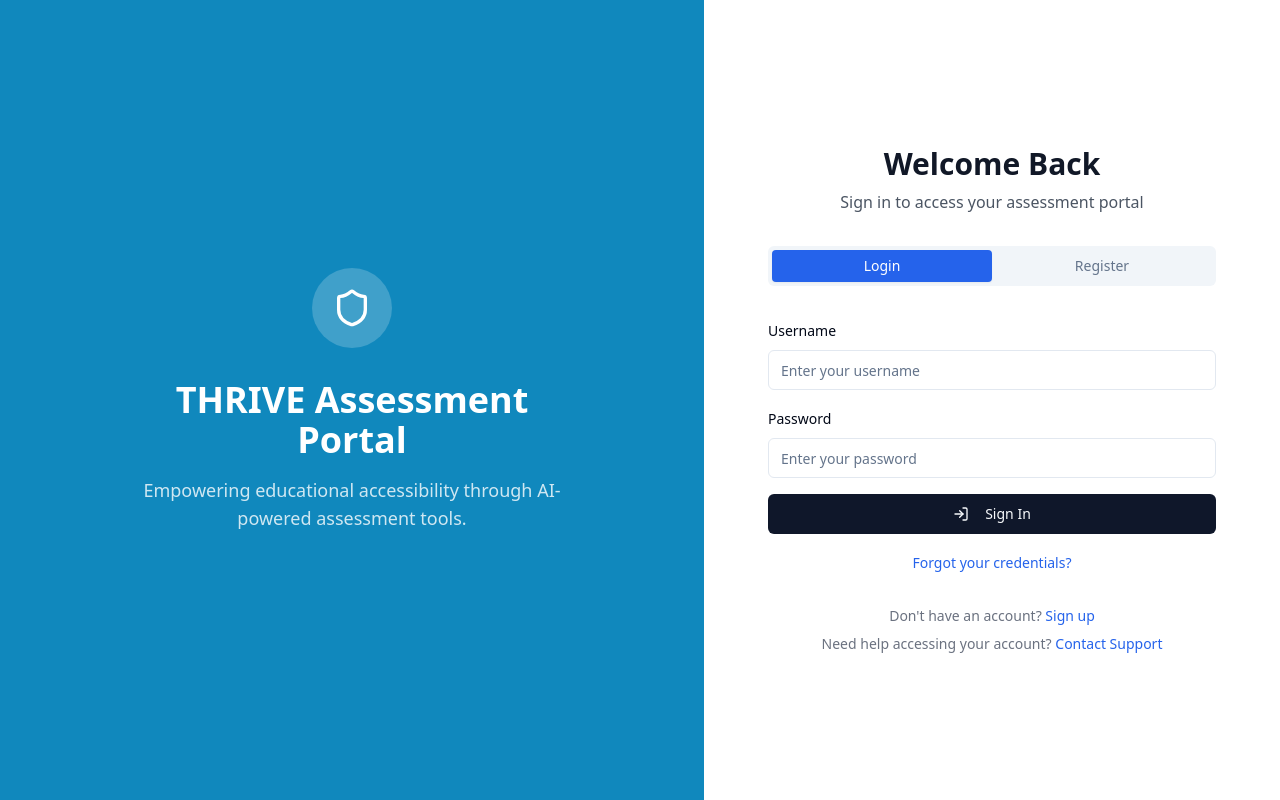
it: UnifiedLoginPage › Rate Limiting › should show remaining attempts counter
The image size is (1280, 800).
Type "testuser" into the field with test id "input-username" at (992, 370), box top-left (768, 350), bottom-right (1216, 390)
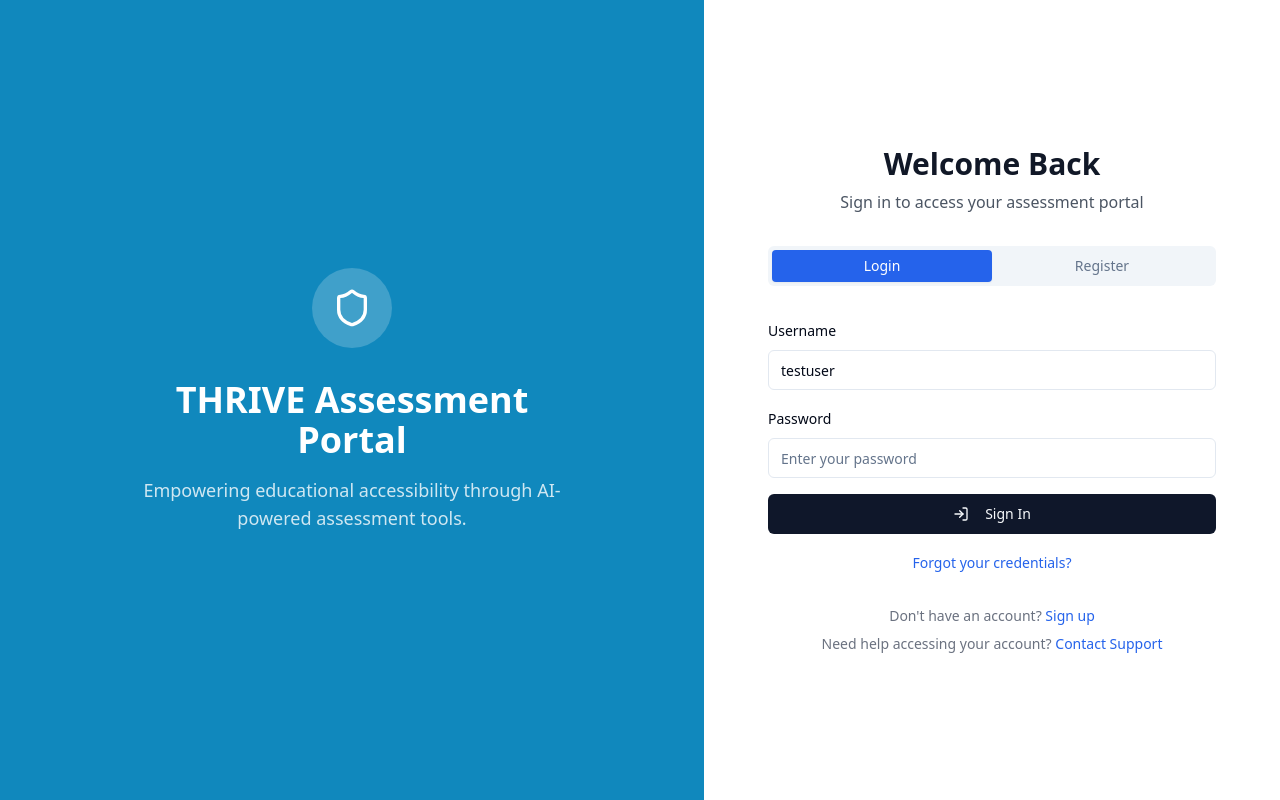
Type "wrongpass" into the password field with test id "input-password" at (992, 458), box top-left (768, 438), bottom-right (1216, 478)
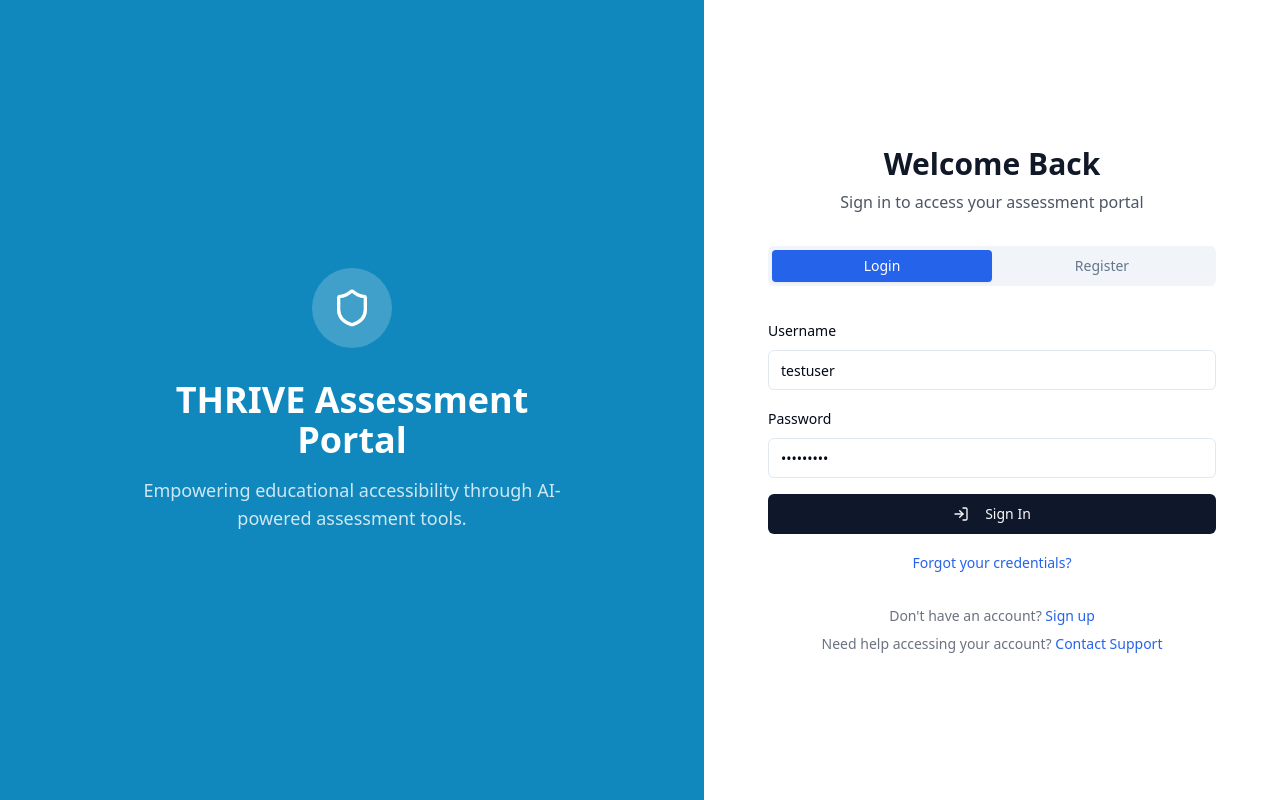
Click the button with test id "button-sign-in" at (992, 514), box top-left (768, 494), bottom-right (1216, 534)
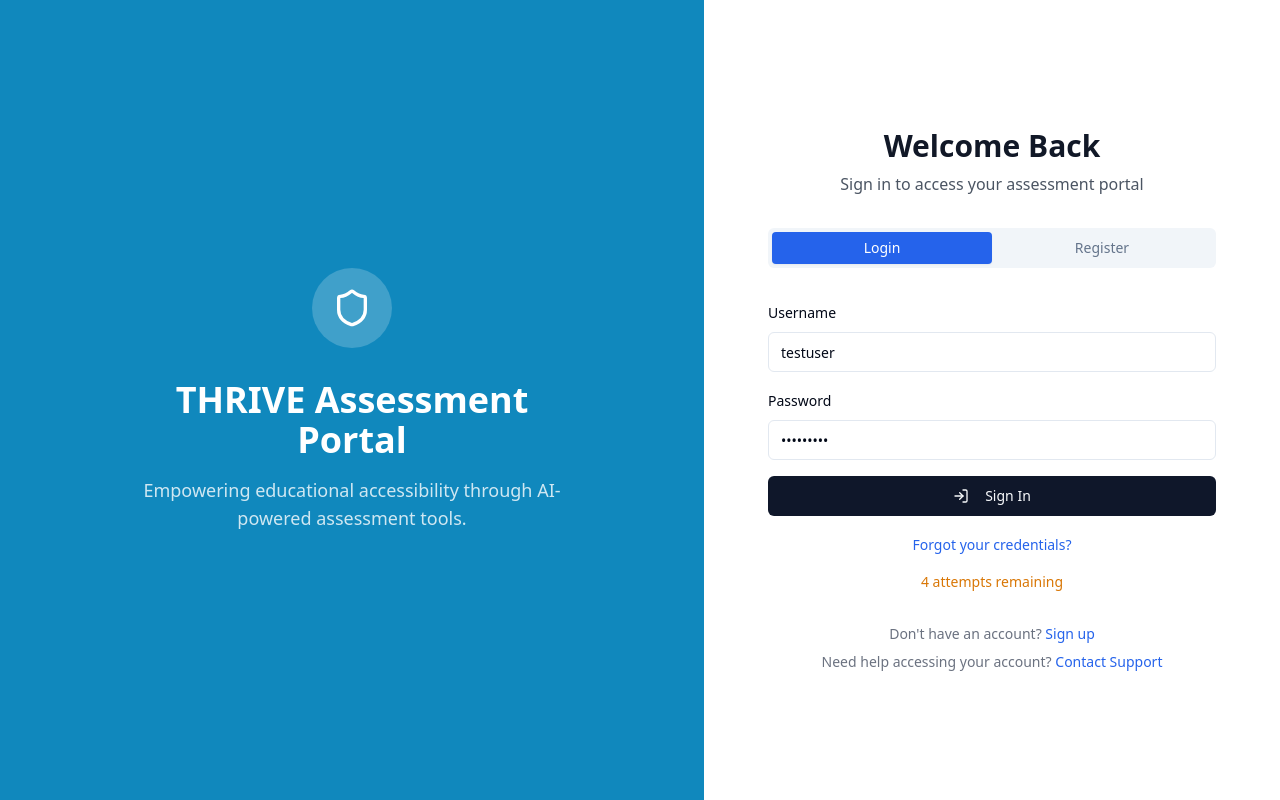
Expected: the text "4 attempts remaining" is shown, top-left (921, 572), bottom-right (1063, 591)
